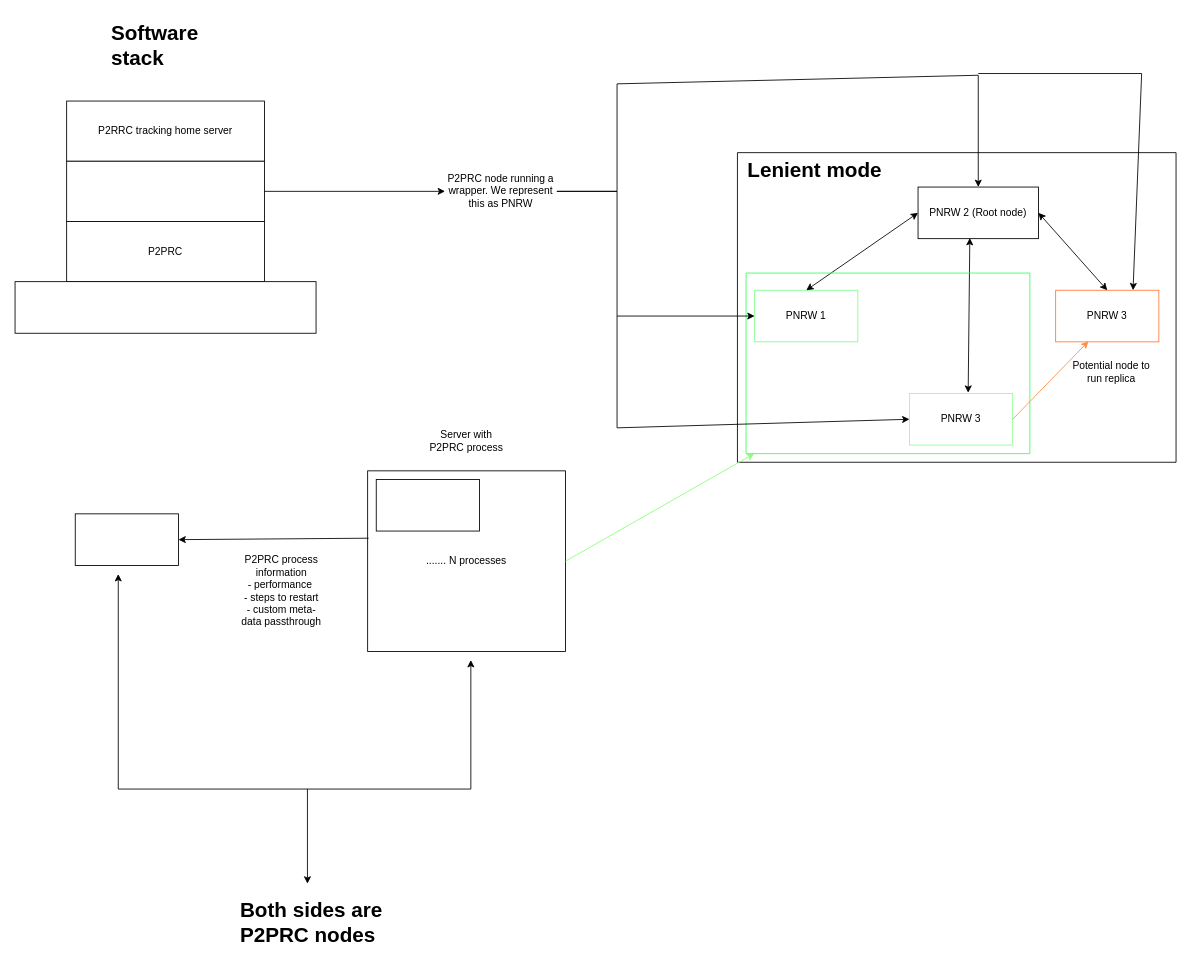
Image size: 1191x969. Some labels were removed from this diagram. The box of each missing label's shape, as (x1, y1, x2, y2) in pixels:
Haskell bindings: (66, 160, 264, 221)
Operating system: (14, 281, 316, 333)
P2PRC process 1: (375, 479, 479, 531)
PNRW Tracker: (74, 513, 178, 565)
